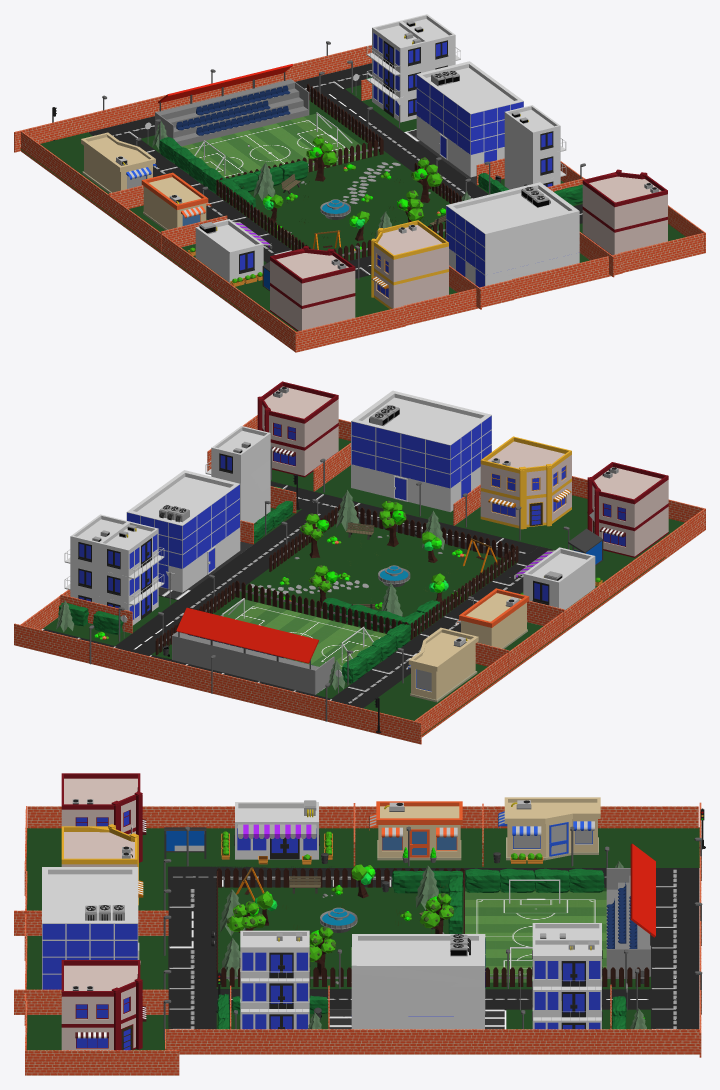
The model's file is yard env.fbx.
3 renders of one model, top to bottom at view 1: azimuth 30°, elevation 25°; view 2: azimuth 150°, elevation 25°; view 3: azimuth 270°, elevation 25°, orthographic. The views are drawn at different scales.
Visible parts, largest first — view 1: Cube.153_Material.001_0, Cube.099_Material.001_0; view 2: Cube.153_Material.001_0, Cube.099_Material.001_0; view 3: Cube.153_Material.001_0, Cube.099_Material.001_0.
Boxes of the visible parts, bbox=[...] form: Cube.153_Material.001_0: bbox=[14, 14, 705, 352]; Cube.099_Material.001_0: bbox=[102, 69, 470, 260]; Cube.153_Material.001_0: bbox=[14, 381, 705, 744]; Cube.099_Material.001_0: bbox=[155, 489, 518, 721]; Cube.153_Material.001_0: bbox=[14, 773, 705, 1075]; Cube.099_Material.001_0: bbox=[211, 837, 702, 988].
Size of the model in its own units: 4304 by 805 by 5069.
82 materials, 7 textured.
